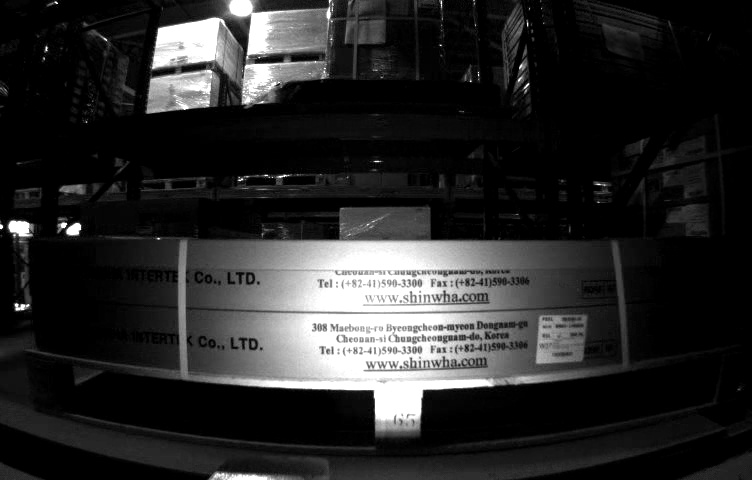True Barcode: (535, 311, 586, 362)
